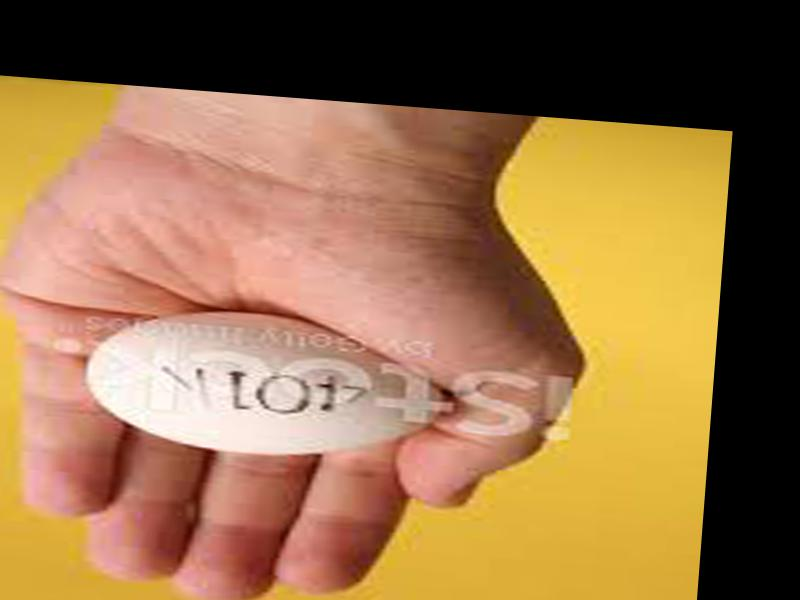Eggs: (81, 302, 449, 467)
